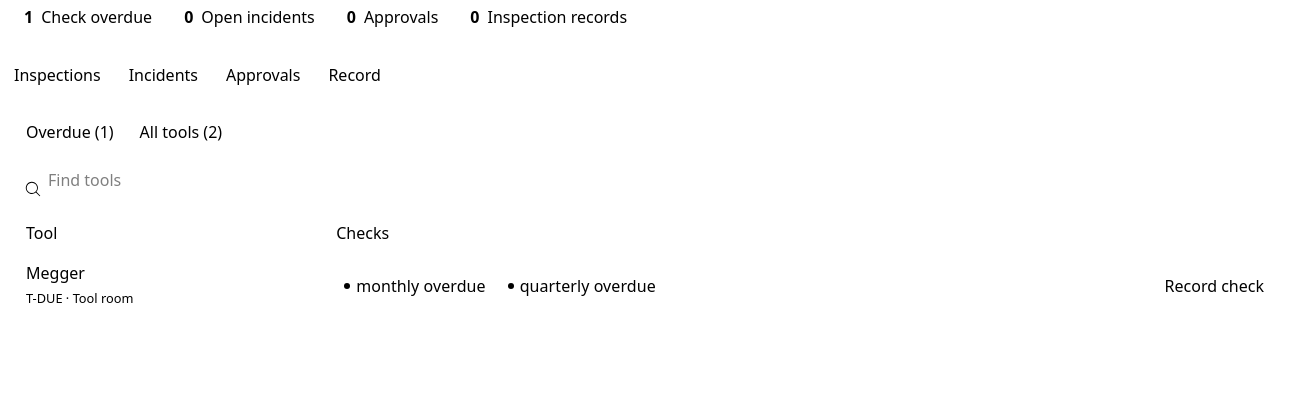
Test: ToolsCompliance › opens on the tools with overdue checks and lists the rest on request
This screenshot has width=1304, height=402.
Expected: the text "Megger" is shown, left=26, top=262, right=85, bottom=284
Expected: the text "monthly overdue" is shown, left=356, top=276, right=486, bottom=296
What coordinates should you click on to do the following:
click the button "All tools (2)"
I would click on:
 (181, 132)
Its box is left=128, top=116, right=234, bottom=148.
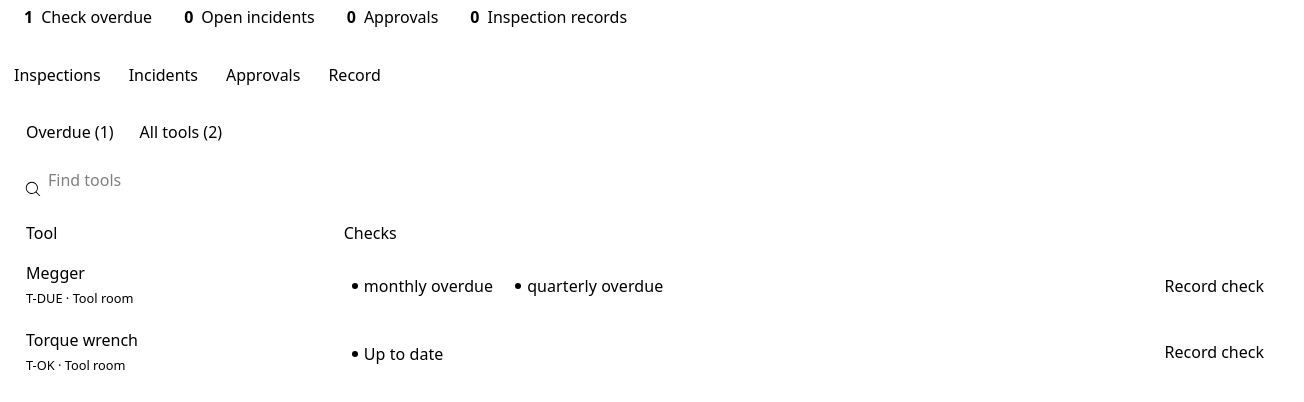
Expected: the row that starts with "Megger" is shown, left=26, top=262, right=85, bottom=284
Expected: the row "Torque wrench T-OK · Tool room Up to date Record check" is shown, left=12, top=319, right=1292, bottom=386
